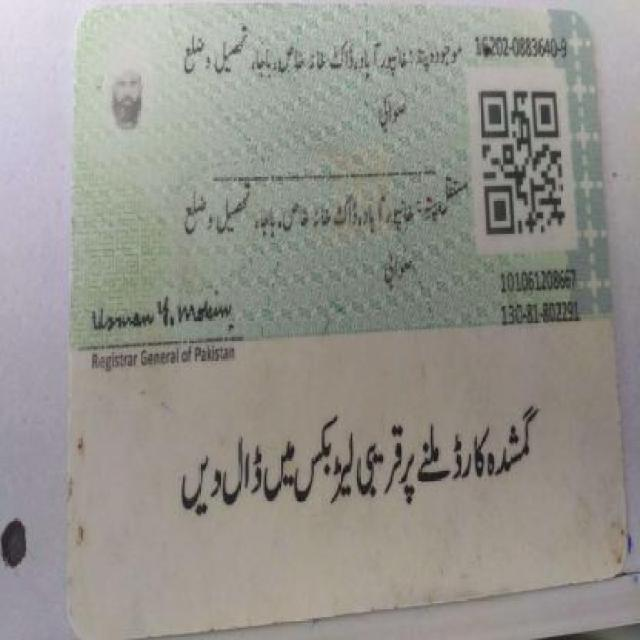Back: (69, 8, 625, 602)
